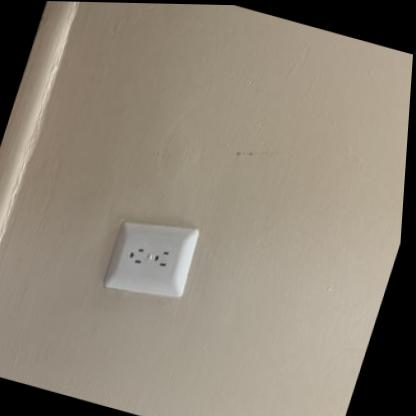OUTLET: (101, 215, 203, 308)
